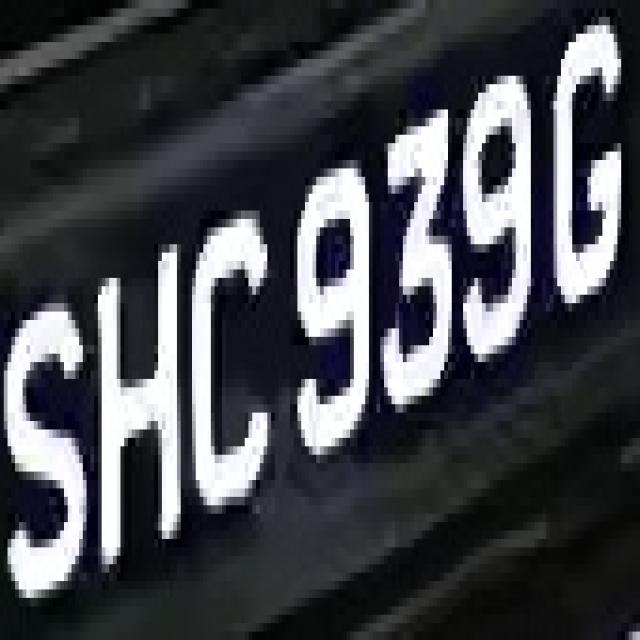3: (362, 67, 471, 413)
9: (278, 135, 388, 497), (448, 33, 542, 370)
C: (185, 177, 286, 530)
G: (550, 0, 632, 320)
H: (86, 219, 196, 564)
S: (3, 261, 86, 615)
